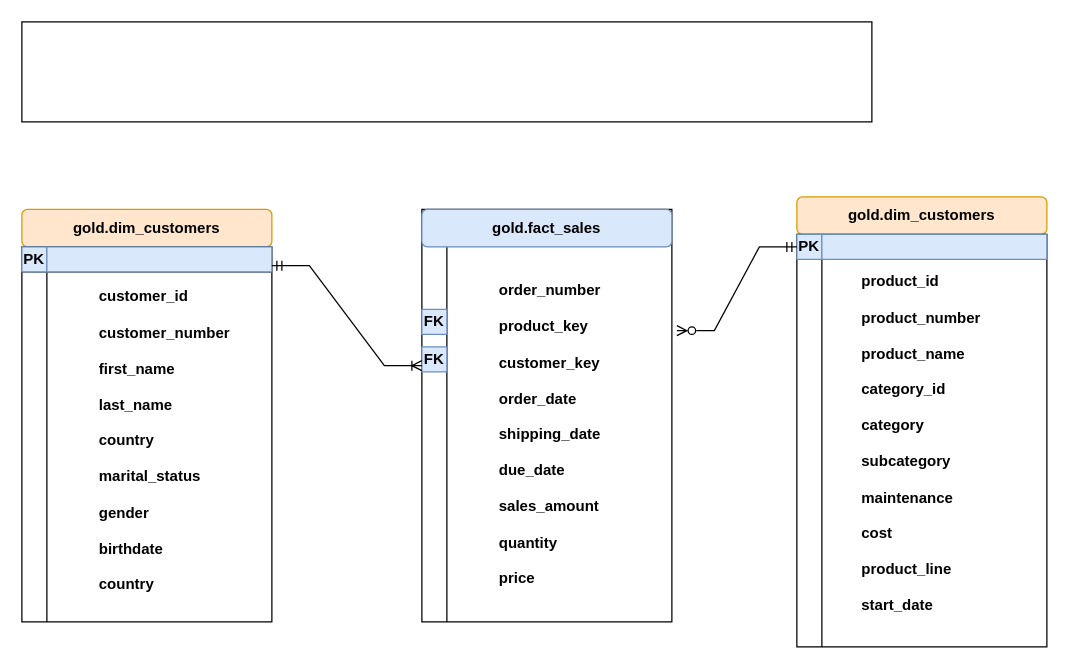
Image size: 1069x669. Some labels were removed from this diagram. The centre of each missing label's shape, as x and y in pixels:
"customer_key" goes at point (159, 259).
"product_key" goes at point (934, 246).
"Sales Data Mart" goes at point (446, 71).
